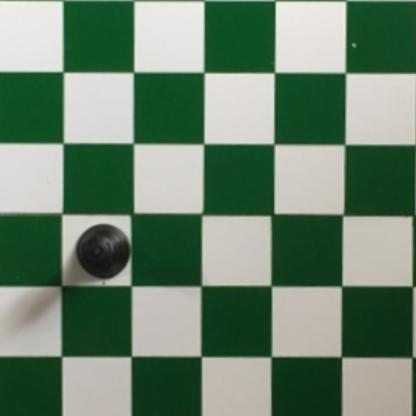black-queen: (74, 222, 130, 282)
